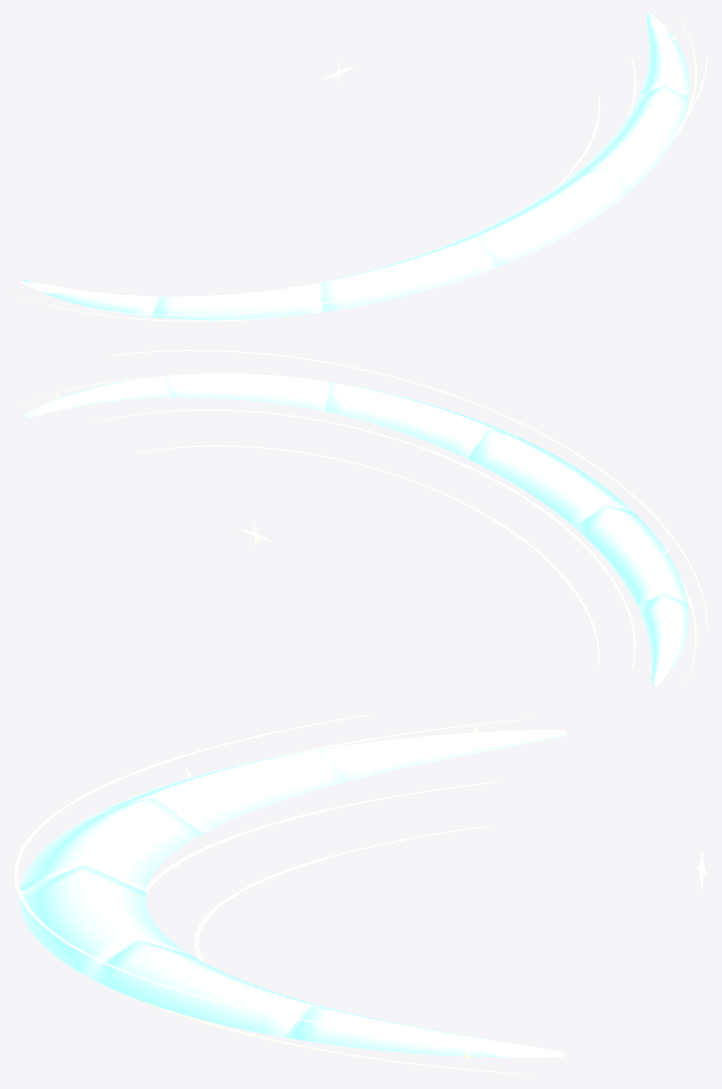
File: samurai-iai-v1.glb
3 views of the same model, one above another, from view 1: azimuth 30°, elevation 25°; view 2: azimuth 150°, elevation 25°; view 3: azimuth 270°, elevation 25° (orthographic). The views are drawn at different scales.
Visible parts, largest first — view 1: Iai_Glow_03, Iai_Glow_02, Iai_Glow_04, Iai_Glow_01, Iai_Glow_05, Iai_Glow_00, Iai_Follow_Streak_02, Iai_Gold_Outer_Filament; view 2: Iai_Glow_02, Iai_Glow_03, Iai_Glow_01, Iai_Glow_04, Iai_Glow_00, Iai_Glow_05, Iai_Follow_Streak_00, Iai_Follow_Streak_02, Iai_Follow_Streak_01; view 3: Iai_Glow_04, Iai_Glow_03, Iai_Glow_02, Iai_Glow_01, Iai_Glow_05, Iai_Glow_00, Iai_Follow_Streak_02, Iai_Gold_Outer_Filament, Iai_Follow_Streak_00, Iai_Follow_Streak_01, Iai_Core_05.
Part boxes in pixels (bbox=[...]): Iai_Glow_03: bbox=[460, 167, 631, 267]; Iai_Glow_02: bbox=[320, 237, 497, 312]; Iai_Glow_04: bbox=[575, 85, 688, 190]; Iai_Glow_01: bbox=[151, 282, 323, 320]; Iai_Glow_05: bbox=[640, 14, 689, 97]; Iai_Glow_00: bbox=[23, 280, 160, 316]; Iai_Follow_Streak_02: bbox=[87, 58, 707, 315]; Iai_Gold_Outer_Filament: bbox=[14, 18, 696, 321]; Iai_Glow_02: bbox=[468, 428, 632, 527]; Iai_Glow_03: bbox=[326, 382, 505, 458]; Iai_Glow_01: bbox=[575, 504, 687, 605]; Iai_Glow_04: bbox=[163, 373, 329, 411]; Iai_Glow_00: bbox=[638, 593, 688, 685]; Iai_Glow_05: bbox=[26, 376, 171, 417]; Iai_Follow_Streak_00: bbox=[92, 409, 635, 668]; Iai_Follow_Streak_02: bbox=[110, 350, 707, 626]; Iai_Follow_Streak_01: bbox=[136, 445, 599, 665]; Iai_Glow_04: bbox=[84, 939, 335, 1037]; Iai_Glow_03: bbox=[19, 864, 188, 975]; Iai_Glow_02: bbox=[20, 797, 203, 891]; Iai_Glow_01: bbox=[99, 749, 348, 832]; Iai_Glow_05: bbox=[284, 1005, 565, 1056]; Iai_Glow_00: bbox=[309, 731, 567, 780]; Iai_Follow_Streak_02: bbox=[14, 714, 371, 1024]; Iai_Gold_Outer_Filament: bbox=[139, 719, 534, 1074]; Iai_Follow_Streak_00: bbox=[146, 781, 499, 893]; Iai_Follow_Streak_01: bbox=[194, 825, 490, 963]; Iai_Core_05: bbox=[441, 1038, 563, 1057].
Size of the model in its own units: 4.07 by 0.8351 by 2.19.
